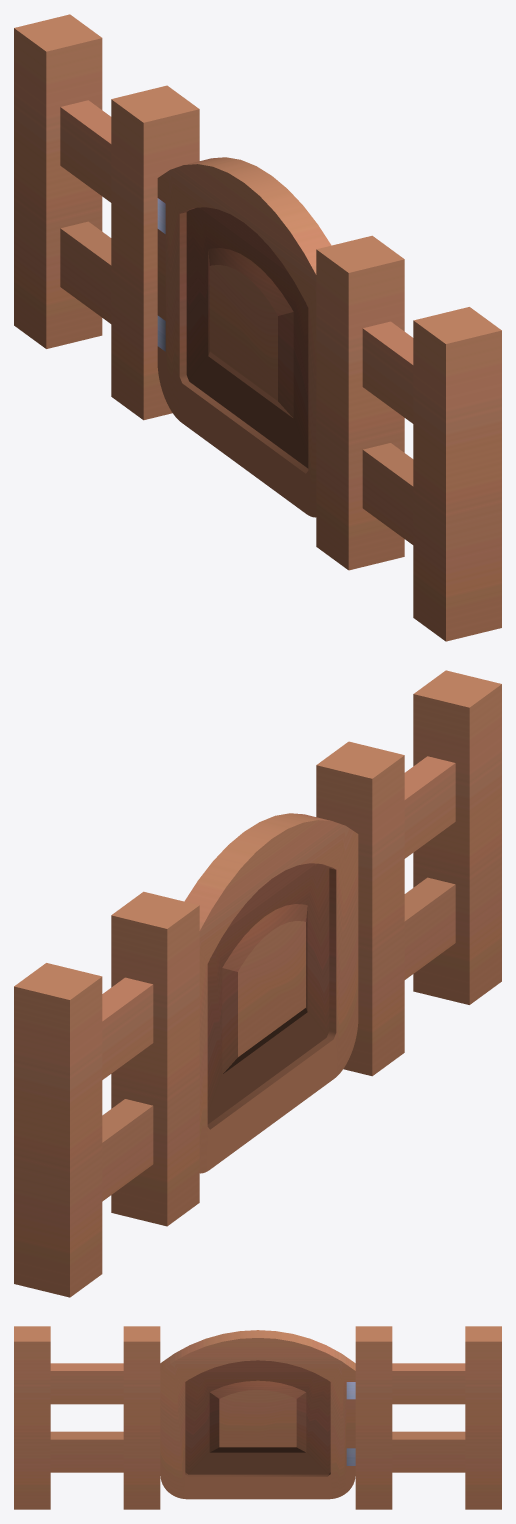
File: fence-gate.glb
3 views of the same model, one above another, from view 1: azimuth 30°, elevation 25°; view 2: azimuth 150°, elevation 25°; view 3: azimuth 270°, elevation 25° (orthographic). The views are drawn at different scales.
Parts seen in each view (by area): view 1: fence-gate, gate; view 2: fence-gate, gate; view 3: fence-gate, gate.
Part boxes in pixels (x1=…): fence-gate: x1=14, y1=14, x2=501, y2=641; gate: x1=157, y1=157, x2=331, y2=517; fence-gate: x1=14, y1=670, x2=501, y2=1297; gate: x1=184, y1=813, x2=358, y2=1173; fence-gate: x1=14, y1=1326, x2=501, y2=1509; gate: x1=160, y1=1330, x2=355, y2=1499.
Bounding box in the file's own units: 0.075 × 0.38 × 1.
1 material, 1 textured.
